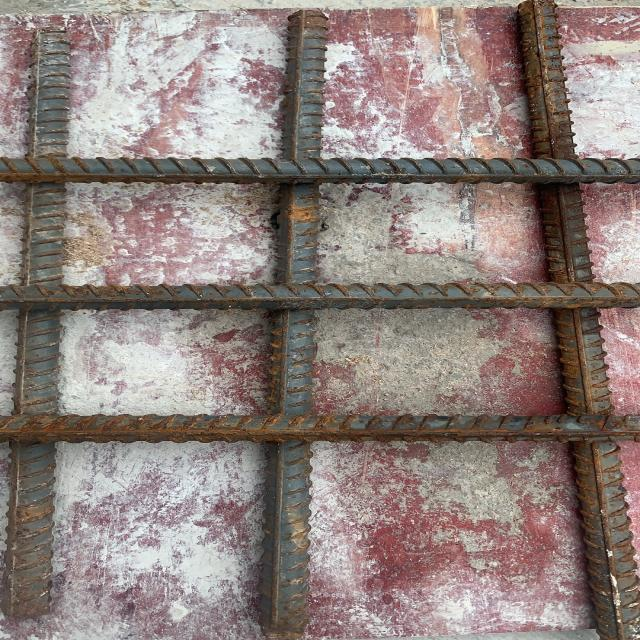ribbed bar: (511, 0, 640, 639), (254, 8, 335, 629), (1, 26, 75, 624), (1, 279, 640, 313), (1, 414, 640, 444), (1, 157, 640, 183)
